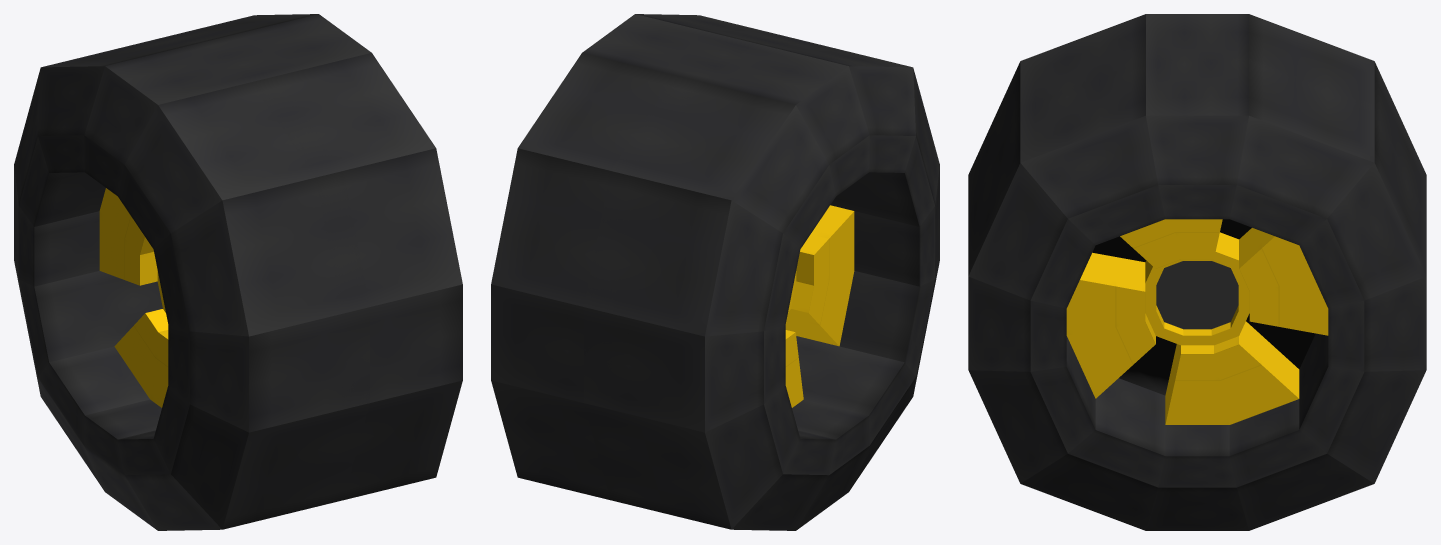
Rendered from Roda-Traseira-Beekart.fbx.
3 views of the same model, side by side, from view 1: azimuth 30°, elevation 25°; view 2: azimuth 150°, elevation 25°; view 3: azimuth 270°, elevation 25° (orthographic). The views are drawn at different scales.
Parts seen in each view (by area): view 1: Rodas.003; view 2: Rodas.003; view 3: Rodas.003.
Part boxes in pixels (left/top/right/bottom): Rodas.003: left=14, top=14, right=462, bottom=530; Rodas.003: left=491, top=14, right=939, bottom=530; Rodas.003: left=968, top=14, right=1426, bottom=530.
Size of the model in its own units: 24.89 by 36.95 by 36.95.
